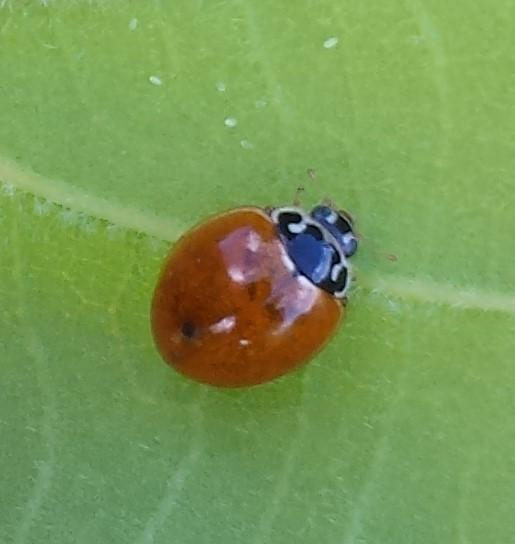ladybug: (150, 182, 365, 392)
